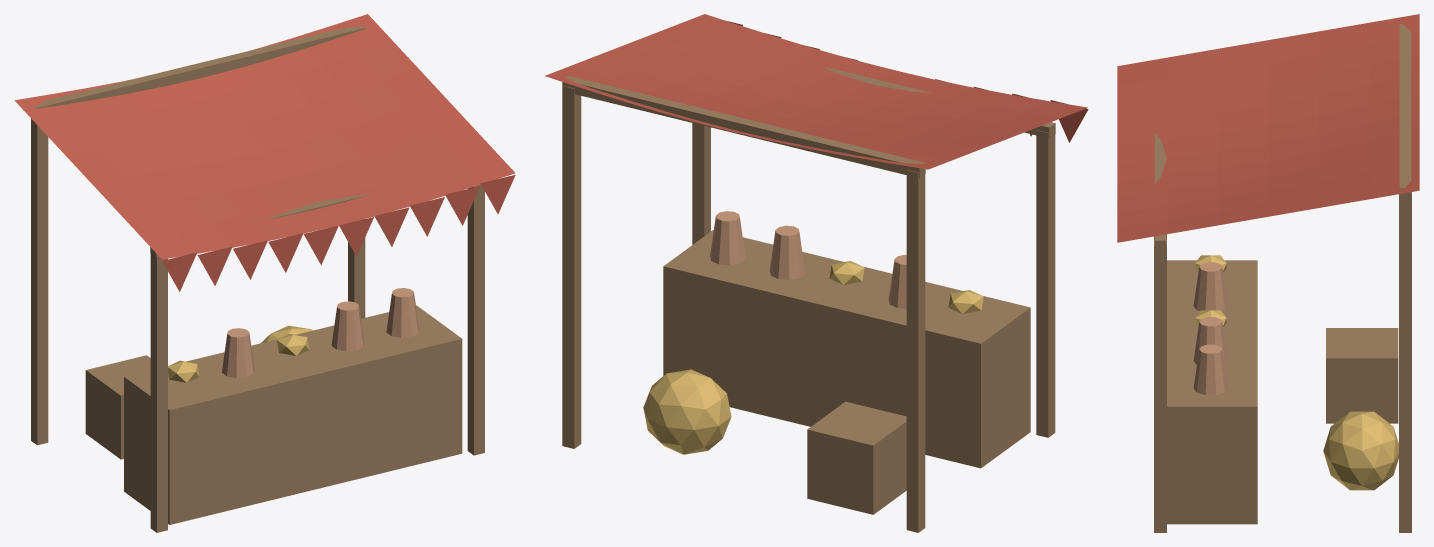
The model's file is SM_DST_Settle_Stall_A.fbx.
3 renders of one model, left to right at view 1: azimuth 30°, elevation 25°; view 2: azimuth 150°, elevation 25°; view 3: azimuth 270°, elevation 25°, orthographic. The views are drawn at different scales.
Visible parts, largest first — view 1: SM_DST_Settle_Stall_A; view 2: SM_DST_Settle_Stall_A; view 3: SM_DST_Settle_Stall_A.
Part boxes in pixels (left/top/right/bottom): SM_DST_Settle_Stall_A: left=14, top=14, right=515, bottom=532; SM_DST_Settle_Stall_A: left=545, top=14, right=1088, bottom=532; SM_DST_Settle_Stall_A: left=1117, top=14, right=1419, bottom=532.
Bounding box in the file's own units: 2.9 × 2.68 × 2.1.
